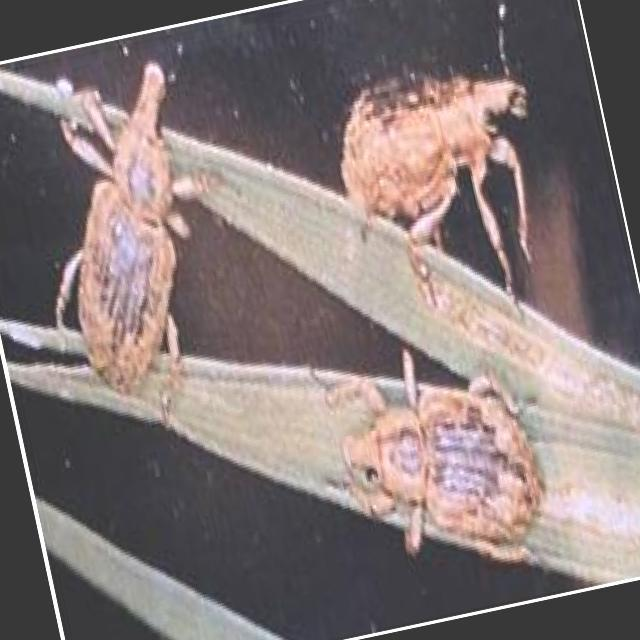ricebug: (57, 62, 205, 392), (341, 75, 531, 289), (342, 379, 544, 561)
